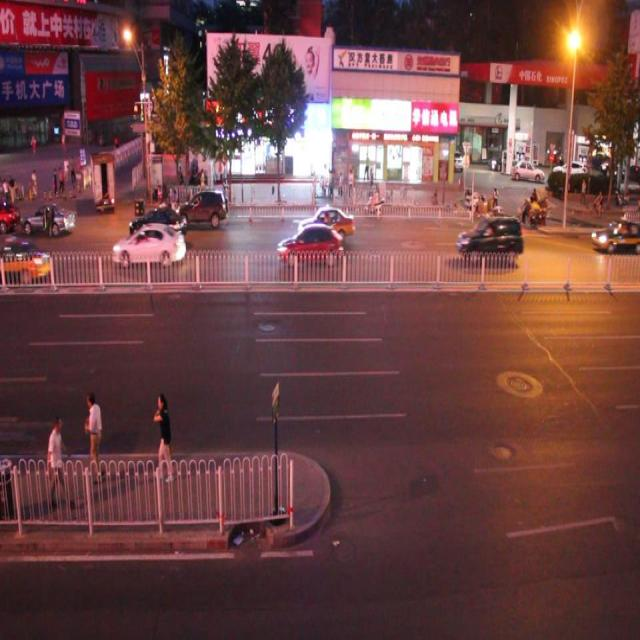bus: (91, 151, 118, 208)
car: (112, 222, 187, 269), (456, 211, 521, 264), (276, 223, 341, 266), (174, 190, 228, 236), (20, 196, 77, 238), (1, 239, 51, 285), (130, 203, 187, 240), (299, 204, 355, 240), (588, 217, 640, 254)
